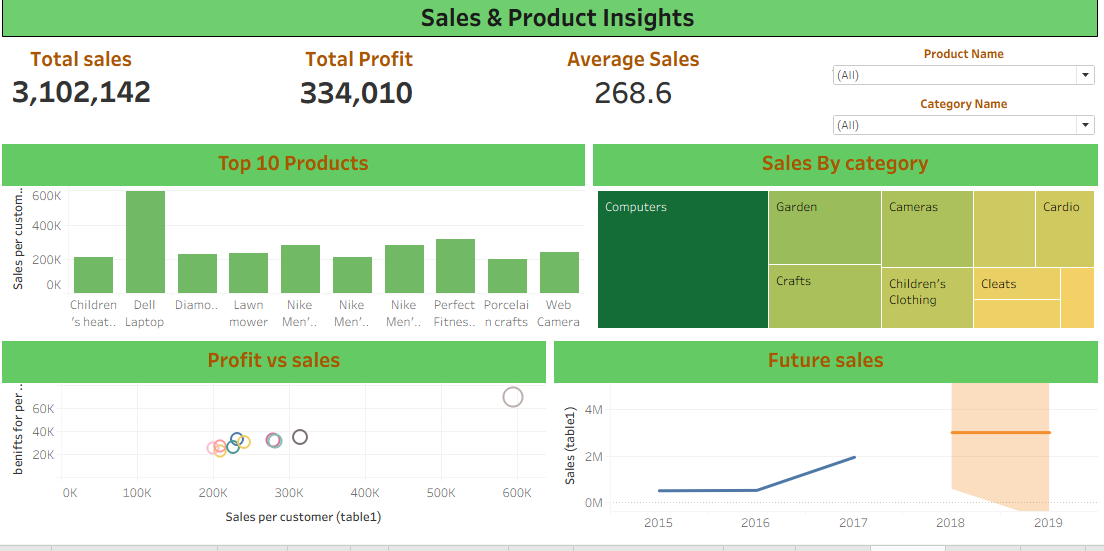

The dashboard page shown, as its layout file describes it:
{"tool":"tableau","page":{"name":"Dashboard 2","canvas":[1000,1000],"units":"permille","ordinal":1},"visuals":[{"type":"title","box":[8.7,14.3,808.7,73.2]},{"type":"filter","title":"Sales by Category2","param":"[federated.0567med1uivuhm19o6j701r0jo8r].[none:Category Name (table1):nk]","box":[817.4,14.3,173.9,485.7]},{"type":"worksheet","title":"TOATAL SALES","mark":"Automatic","box":[8.7,87.5,269.6,171.4]},{"type":"worksheet","title":"TOATAL PROFIT","mark":"Automatic","box":[278.3,87.5,269.6,171.4]},{"type":"worksheet","title":"avg sale per customer","mark":"Automatic","box":[547.8,87.5,269.6,171.4]},{"type":"worksheet","title":"Top 10 Products","mark":"Automatic","rows":["Sales per customer (table1)"],"cols":["Product Name (table1)"],"box":[8.7,258.9,435.7,366.1]},{"type":"worksheet","title":"Sales by Category2","mark":"Automatic","box":[444.4,258.9,373,366.1]},{"type":"filter","title":"Top 10 Products","param":"[federated.0567med1uivuhm19o6j701r0jo8r].[none:Product Name (table1):nk]","box":[817.4,500,173.9,485.7]},{"type":"worksheet","title":"profit and sales scater plot","mark":"Automatic","rows":["Calculation_1541638459940036624"],"cols":["Sales per customer (table1)"],"box":[8.7,625,404.3,360.7]},{"type":"worksheet","title":"FORCAST","mark":"Automatic","rows":["Sales (table1)"],"cols":["shipping date (DateOrders) (table1)"],"box":[413,625,404.4,360.7]}]}

Visuals, with their boxes on the dashboard's canvas, which has no fixed pixel size, in thousandths of its width and height (x1, y1, x2, y2). These are canvas units, not pixel positions in the 1104x551 screenshot, which may show the page scaled, cropped or inside an application window:
title: bbox=(9, 14, 817, 88)
"Sales by Category2" filter: bbox=(817, 14, 991, 500)
"TOATAL SALES" worksheet: bbox=(9, 88, 278, 259)
"TOATAL PROFIT" worksheet: bbox=(278, 88, 548, 259)
"avg sale per customer" worksheet: bbox=(548, 88, 817, 259)
"Top 10 Products" worksheet: bbox=(9, 259, 444, 625)
"Sales by Category2" worksheet: bbox=(444, 259, 817, 625)
"Top 10 Products" filter: bbox=(817, 500, 991, 986)
"profit and sales scater plot" worksheet: bbox=(9, 625, 413, 986)
"FORCAST" worksheet: bbox=(413, 625, 817, 986)
